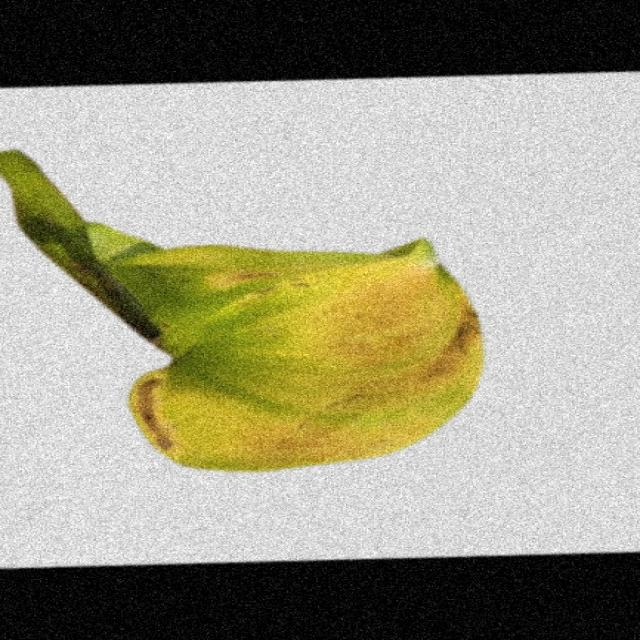daun berpenyakit kuning: (2, 152, 483, 471)
